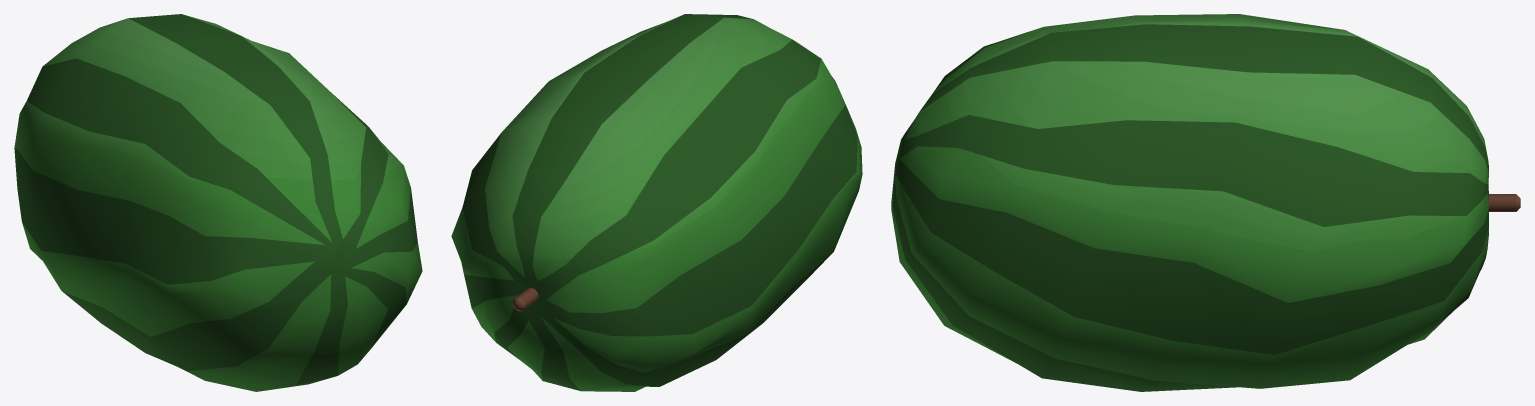
Rendered from wMelon_whole_SM.fbx.
3 views of the same model, side by side, from view 1: azimuth 30°, elevation 25°; view 2: azimuth 150°, elevation 25°; view 3: azimuth 270°, elevation 25° (orthographic). The views are drawn at different scales.
Parts seen in each view (by area): view 1: wMelon_Whole_SM; view 2: wMelon_Whole_SM; view 3: wMelon_Whole_SM.
Boxes of the visible parts, x1=… form: wMelon_Whole_SM: x1=14, y1=14, x2=422, y2=391; wMelon_Whole_SM: x1=451, y1=14, x2=862, y2=391; wMelon_Whole_SM: x1=891, y1=14, x2=1520, y2=391.
Size of the model in its own units: 41.14 by 41.33 by 68.72.
